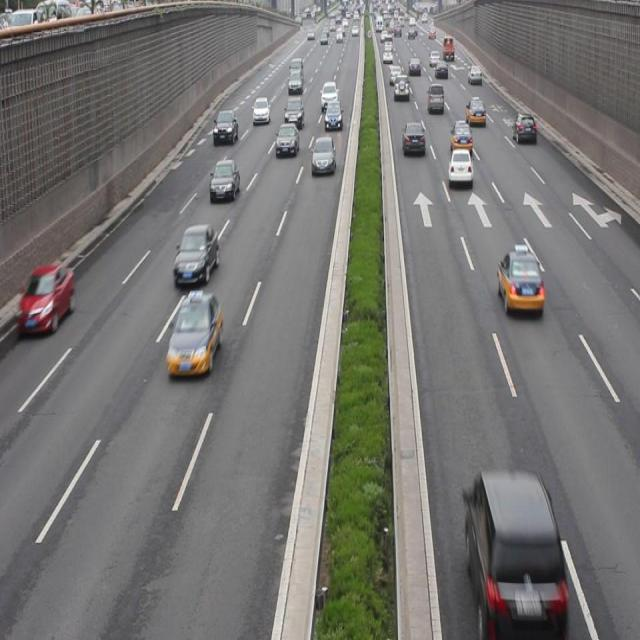car: (459, 468, 566, 627), (165, 294, 223, 376), (18, 266, 76, 330), (495, 242, 544, 317), (172, 223, 217, 284), (210, 160, 239, 203), (310, 135, 335, 176), (212, 111, 239, 144), (513, 111, 536, 147), (448, 149, 472, 183), (449, 122, 472, 157), (401, 121, 424, 152), (277, 124, 299, 156), (284, 96, 302, 130), (324, 102, 343, 128), (467, 96, 482, 127)
